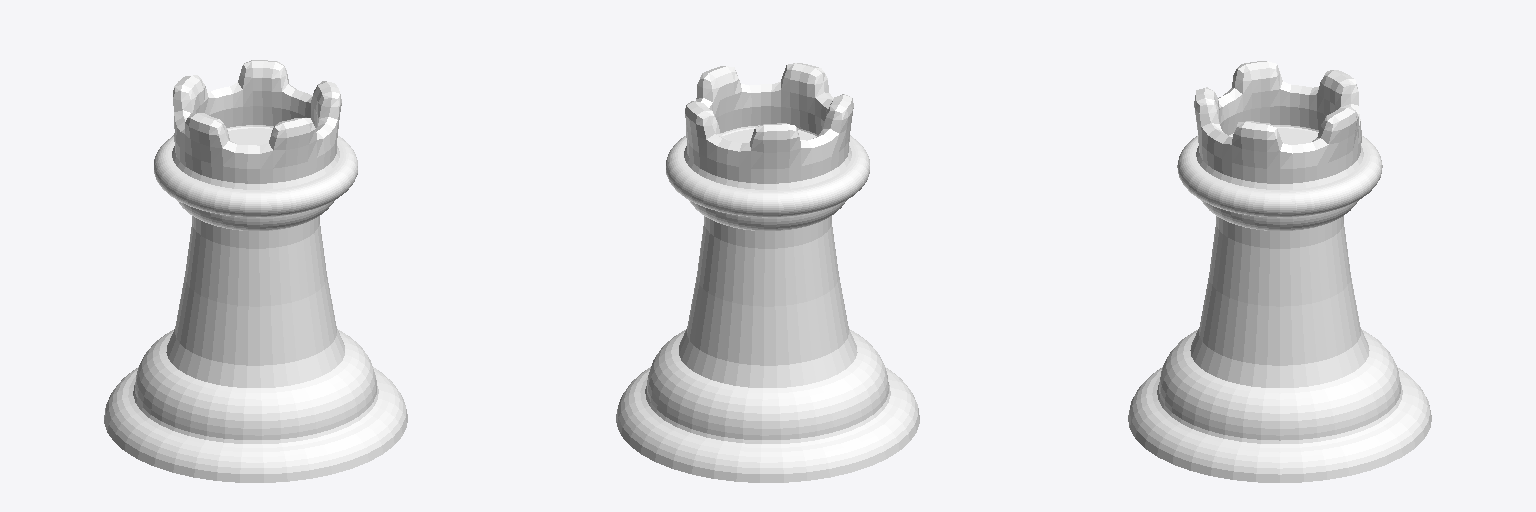
3 renders of one model, left to right at view 1: azimuth 30°, elevation 25°; view 2: azimuth 150°, elevation 25°; view 3: azimuth 270°, elevation 25°, orthographic.
Parts seen in each view (by area): view 1: white_rook2_Mesh.016; view 2: white_rook2_Mesh.016; view 3: white_rook2_Mesh.016.
Part boxes in pixels (left/top/right/bottom): white_rook2_Mesh.016: left=104, top=60, right=407, bottom=482; white_rook2_Mesh.016: left=616, top=63, right=919, bottom=482; white_rook2_Mesh.016: left=1128, top=61, right=1431, bottom=482.
Size of the model in its own units: 0.1347 by 0.1592 by 0.1347.